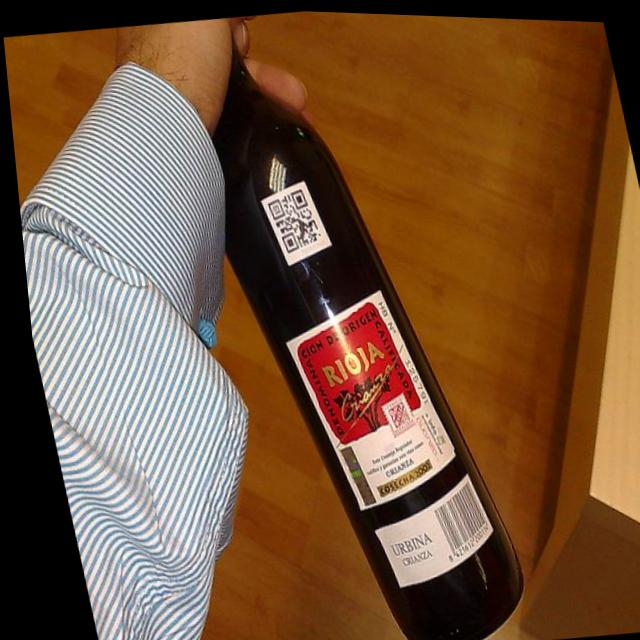qrcode: (261, 186, 320, 253)
